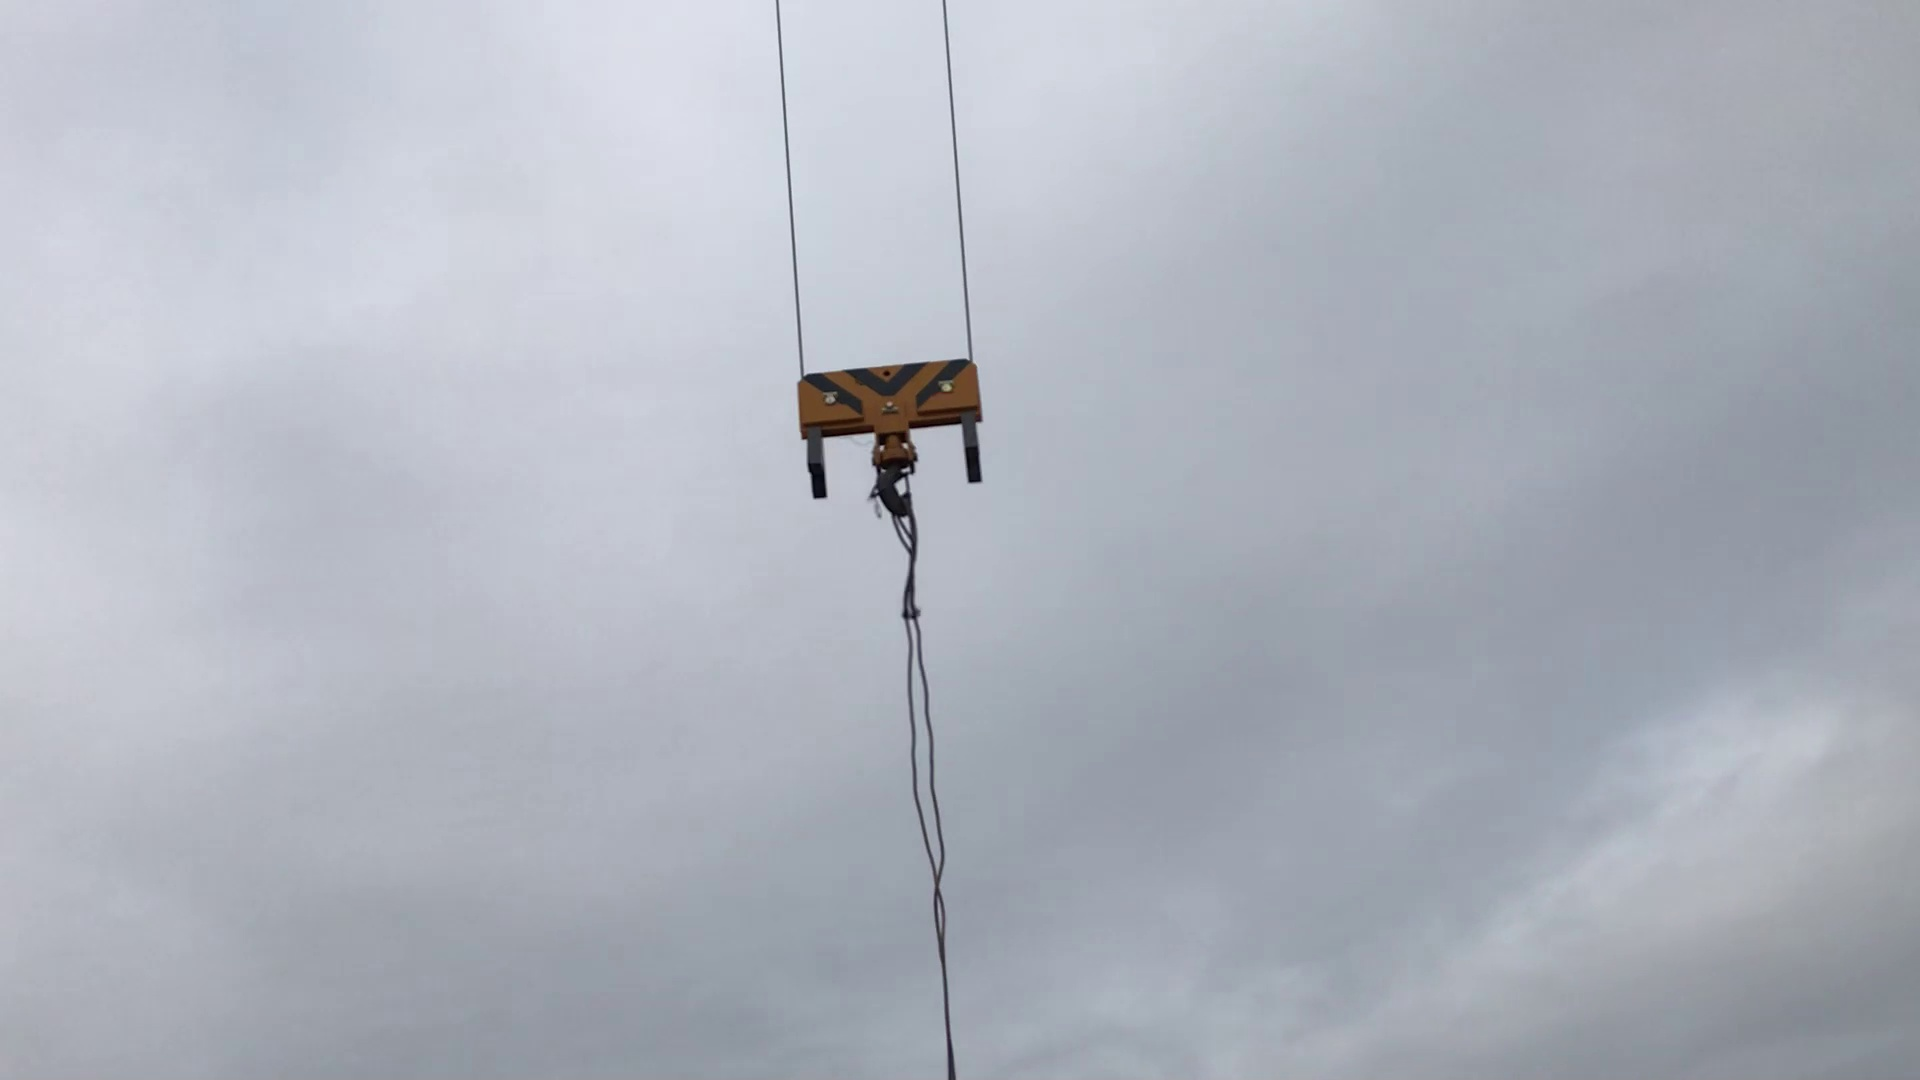hook: (770, 357, 1015, 516)
